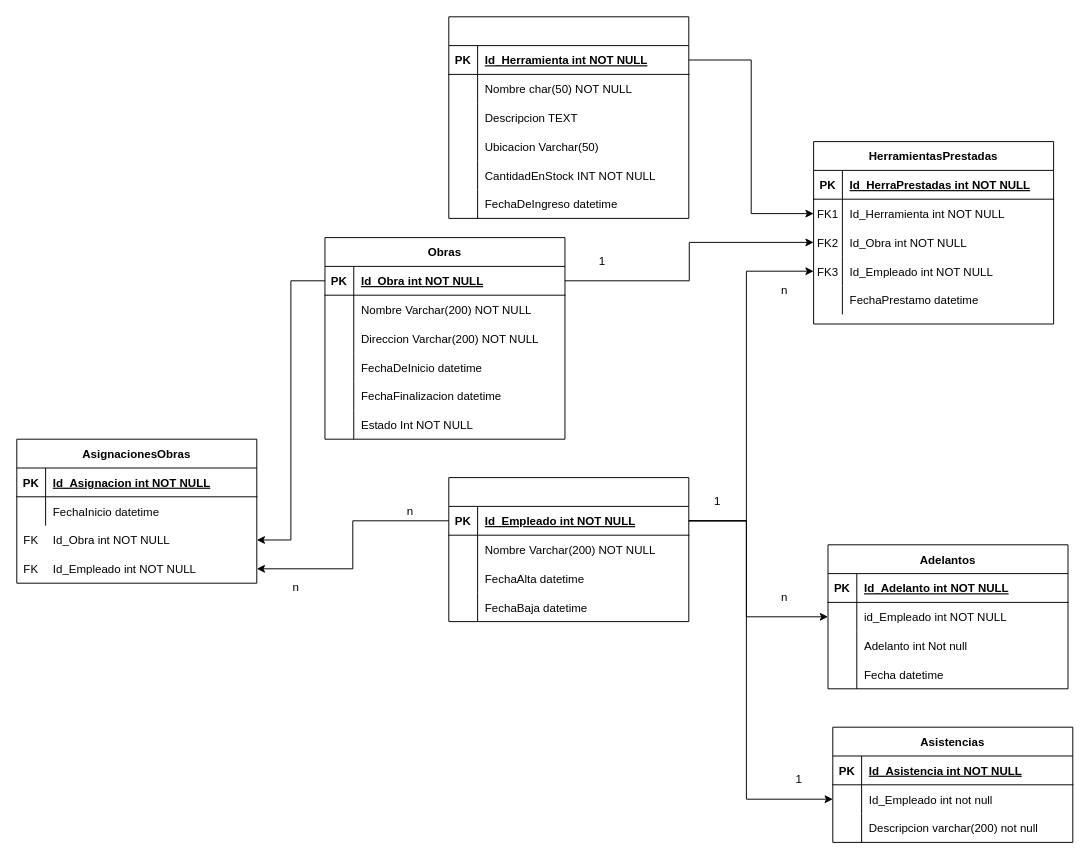
This 1090x859 diagram has some shape labels left out. The box of each missing label's shape, as (x1, y1, x2, y2) in pixels:
Empleados: (448, 477, 689, 622)
Herramientas: (448, 16, 689, 218)
